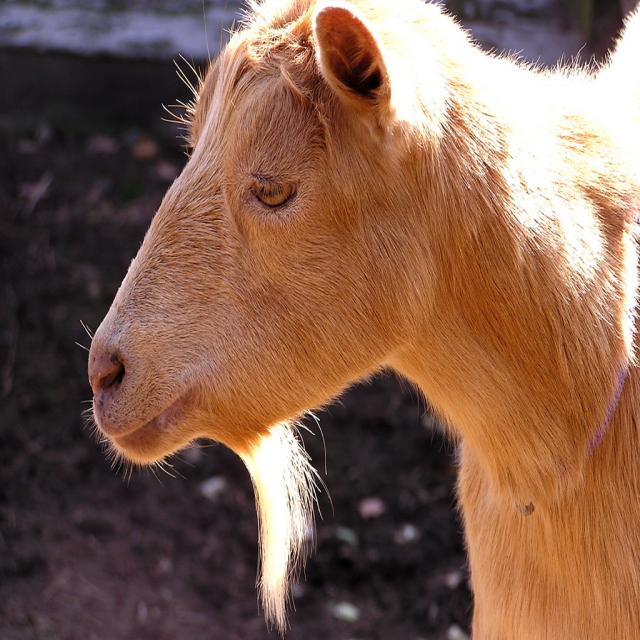Goat: (73, 0, 640, 621)
